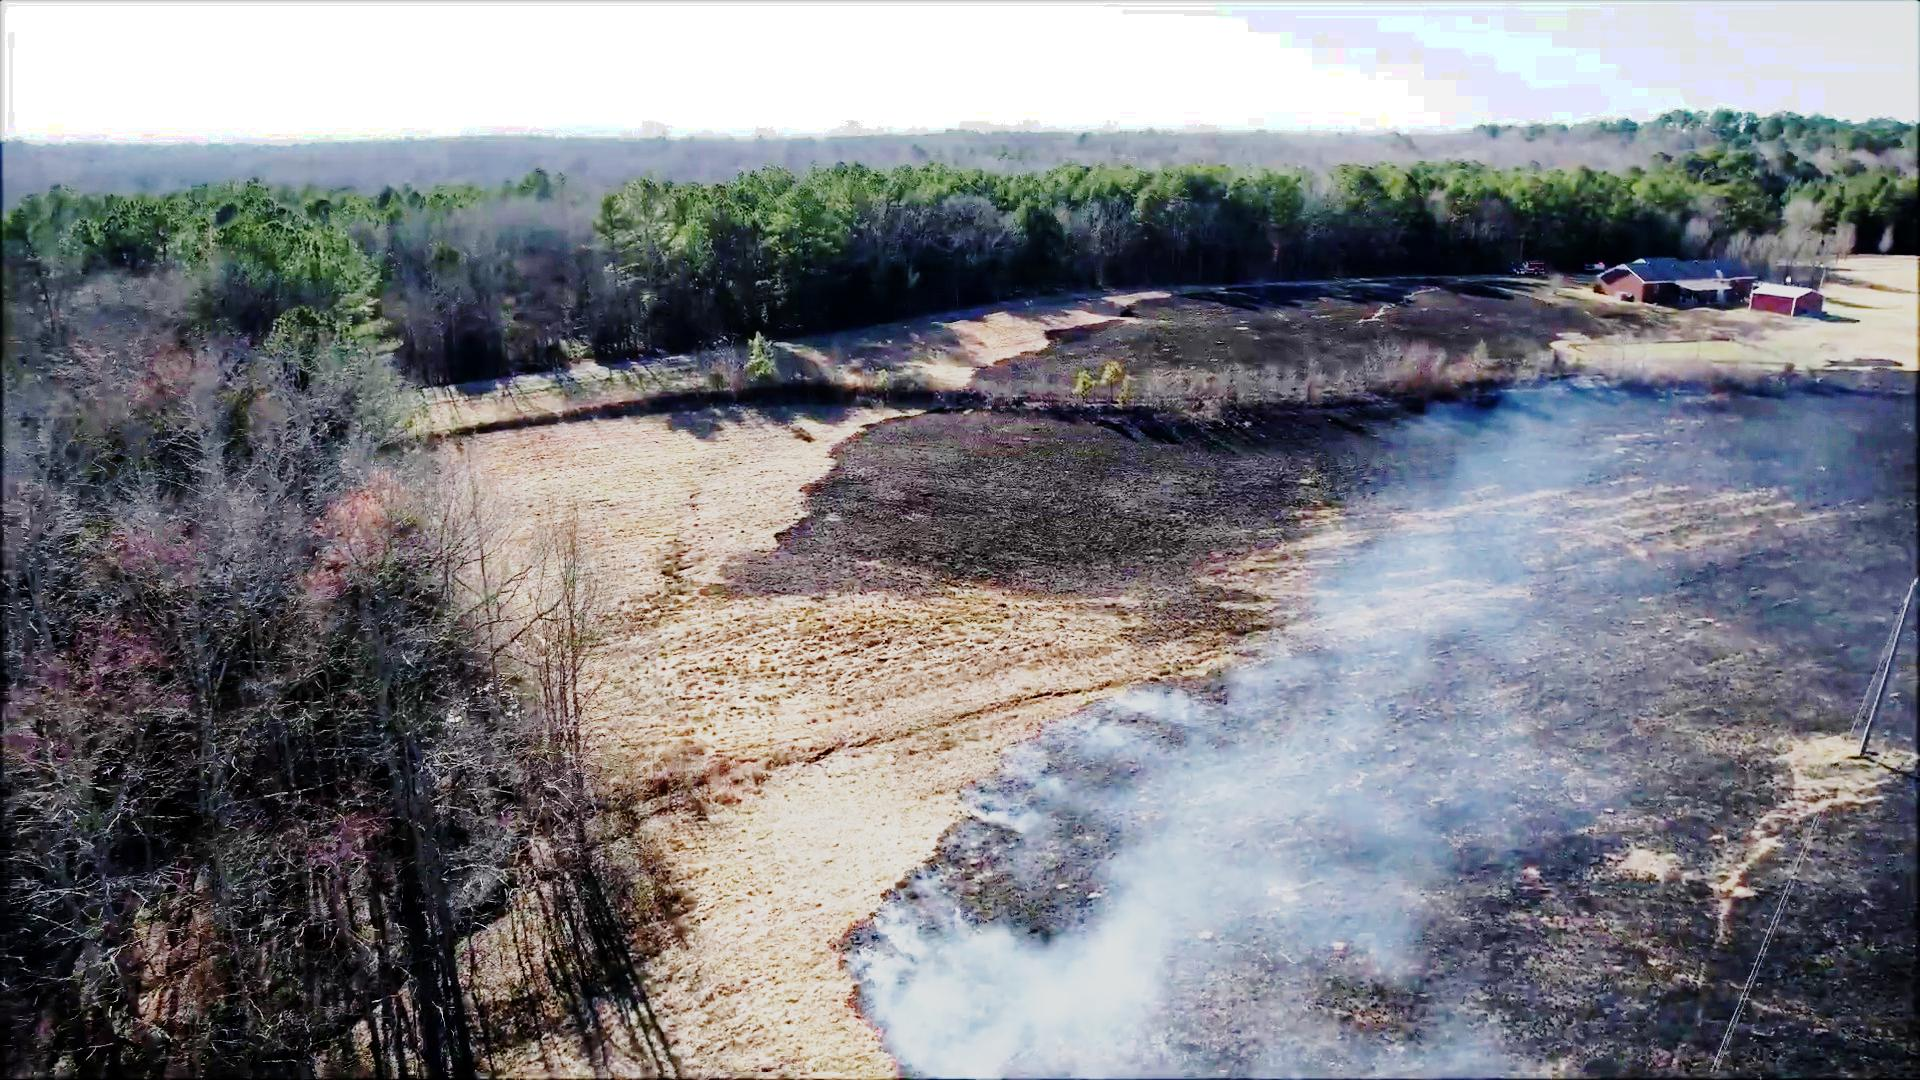smoke: (860, 885, 1180, 1080)
